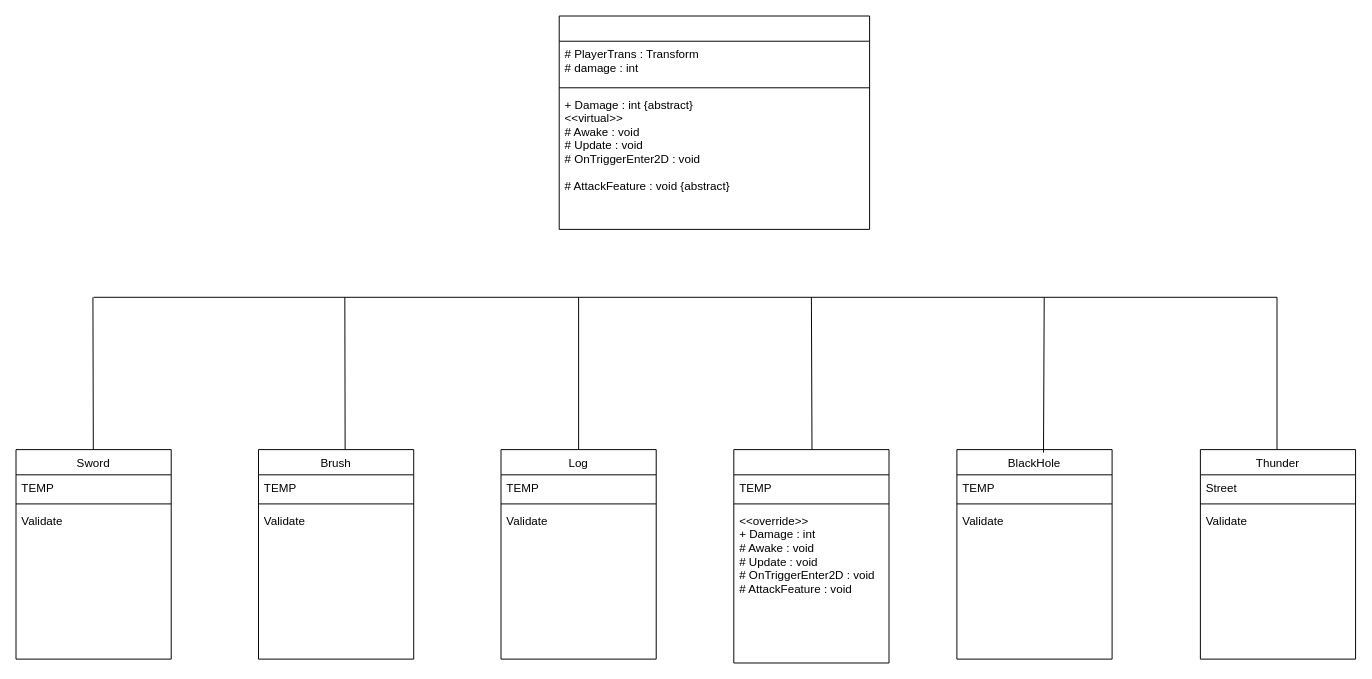
Some shapes in this 1372 by 679 pixel diagram are drawn without their labels. The box of each missing label's shape, as (x1, y1, x2, y2) in pixels:
Charm: (733, 449, 889, 663)
WeaponBase: (558, 15, 870, 229)
